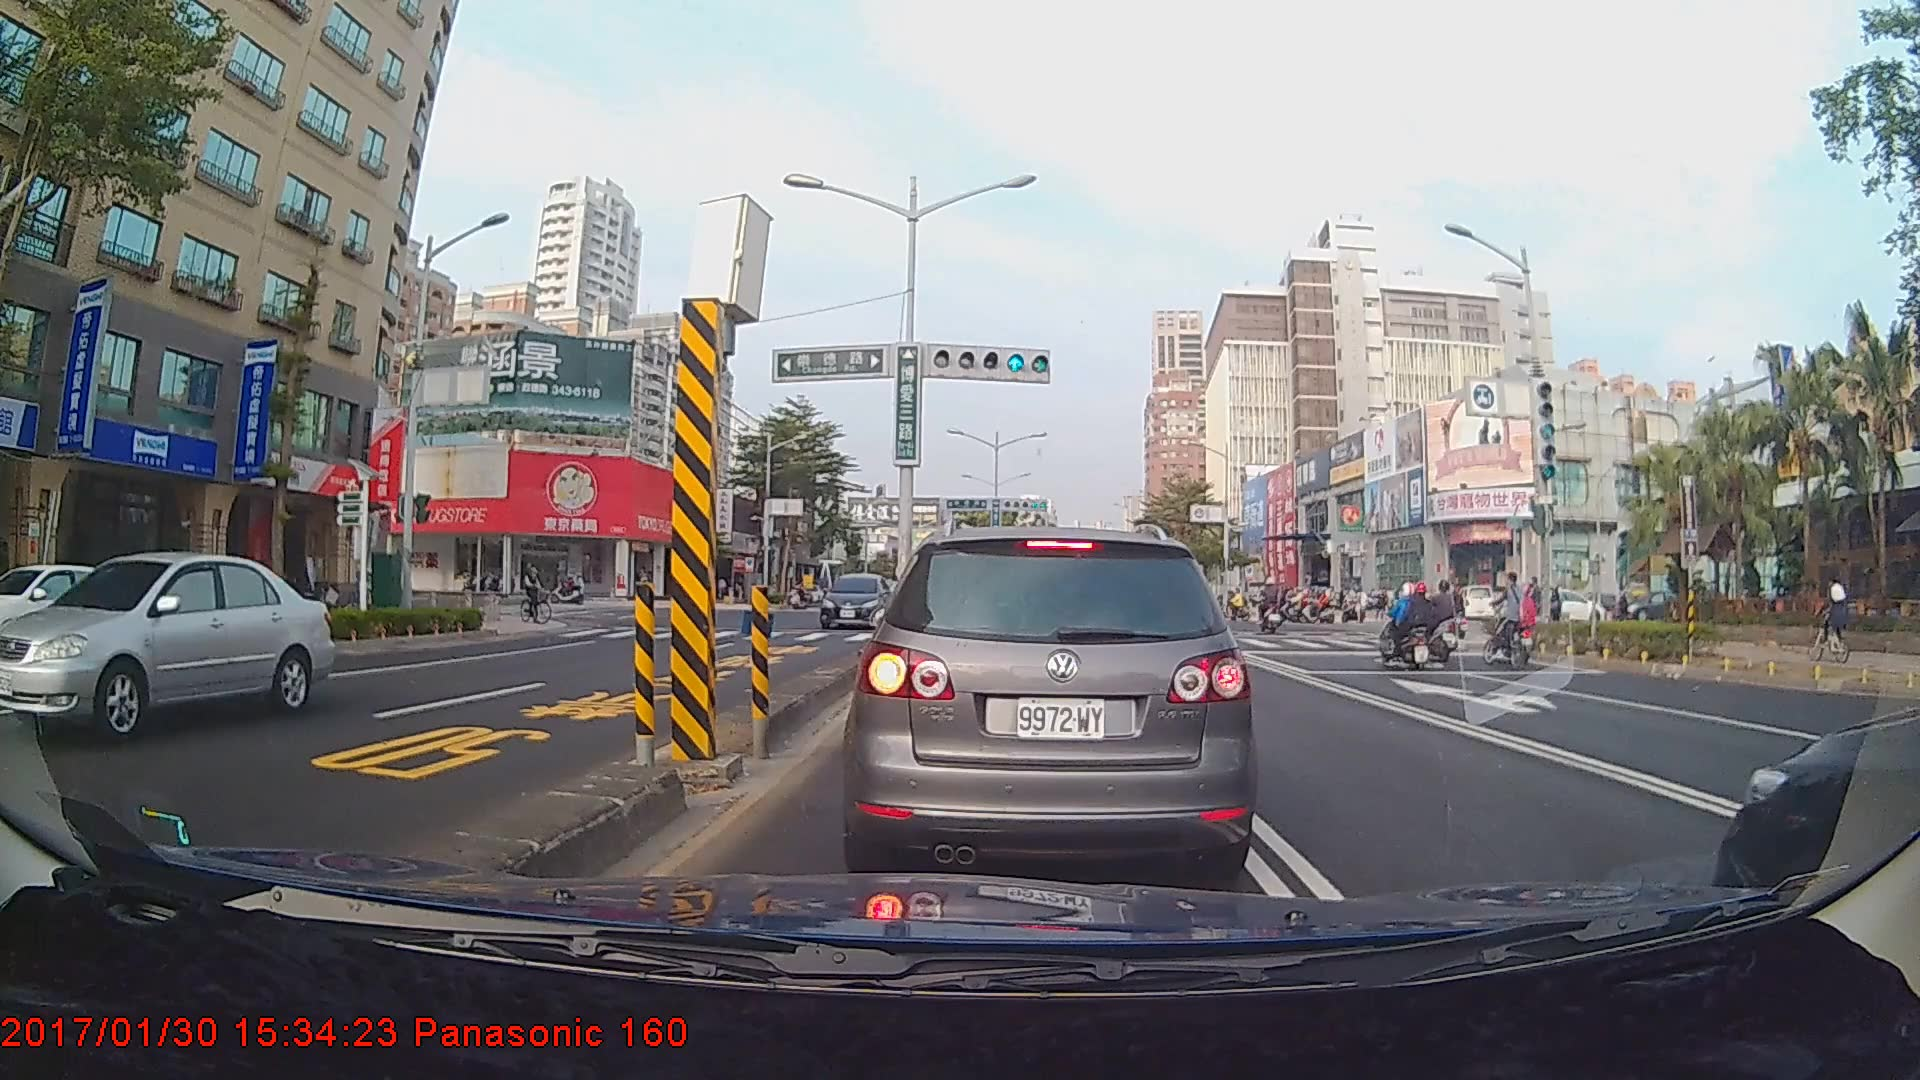pedestrian: (1612, 581, 1632, 640)
rider: (1472, 570, 1527, 668), (1384, 580, 1440, 672), (1809, 577, 1863, 664), (518, 559, 561, 629), (1251, 576, 1291, 637), (546, 569, 587, 606)
vehicle: (853, 523, 1246, 880), (0, 550, 334, 736), (0, 561, 156, 671), (816, 571, 896, 630)
